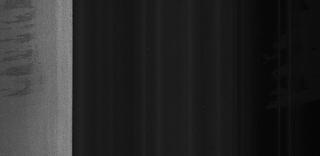water spot: (0, 0, 48, 104)
